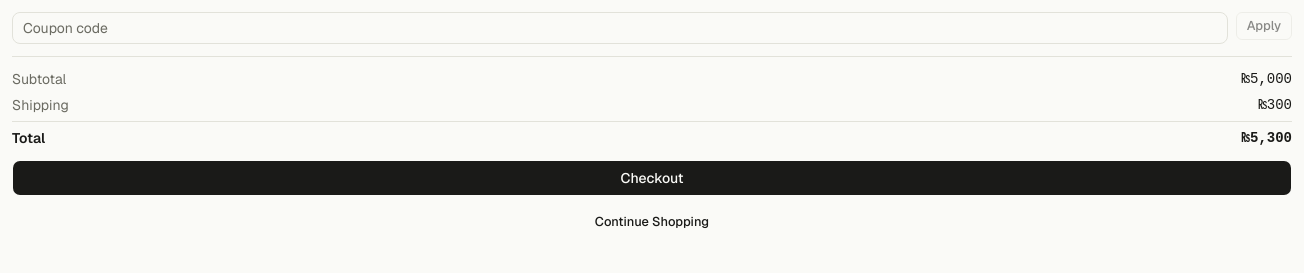
Scenario: CartSummary › shows coupon applied feedback after successful apply
Type "SAVE10" into the field labelled "Coupon code" at x=620, y=28, box top-left (12, 12), bottom-right (1228, 44)
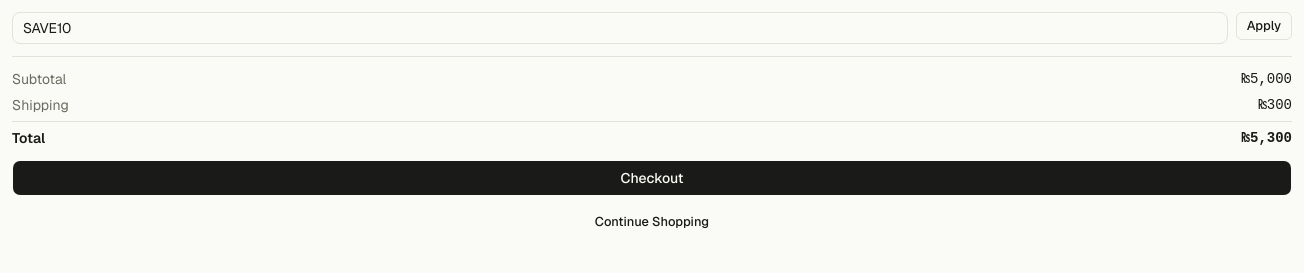
Click the button "Apply" at x=1264, y=26, box top-left (1236, 12), bottom-right (1292, 40)
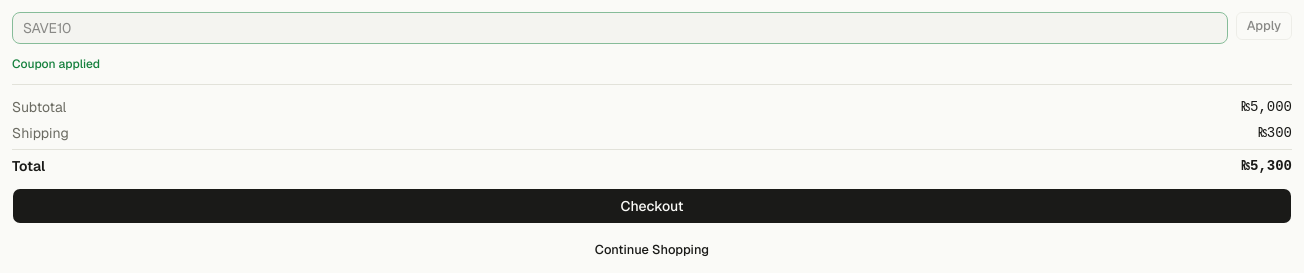
Now the text "Coupon applied" is shown, box top-left (12, 56), bottom-right (100, 72)
